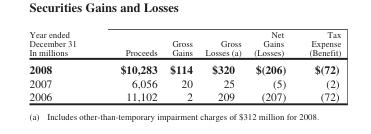table: (28, 29, 340, 102)
table column: (28, 29, 97, 102), (97, 29, 162, 102), (246, 29, 296, 102), (198, 29, 246, 102), (296, 29, 340, 102), (162, 29, 198, 102)
table column header: (28, 29, 340, 59)
table row: (28, 29, 340, 59), (28, 59, 340, 75), (28, 75, 340, 89), (28, 89, 340, 102)
